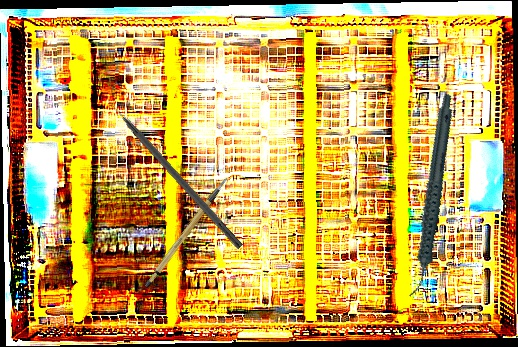Handpiece: (368, 92, 494, 300)
Hook Surgical: (98, 89, 245, 251)
Scalpel Handle: (130, 176, 245, 291)
